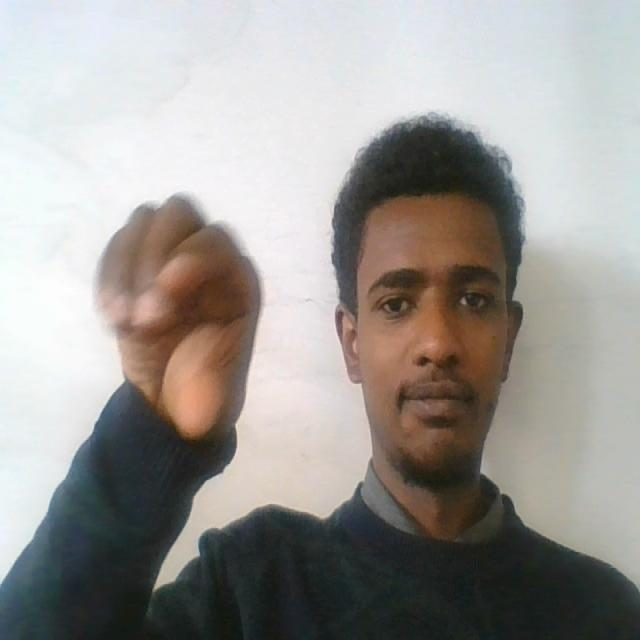no: (84, 176, 281, 456)
